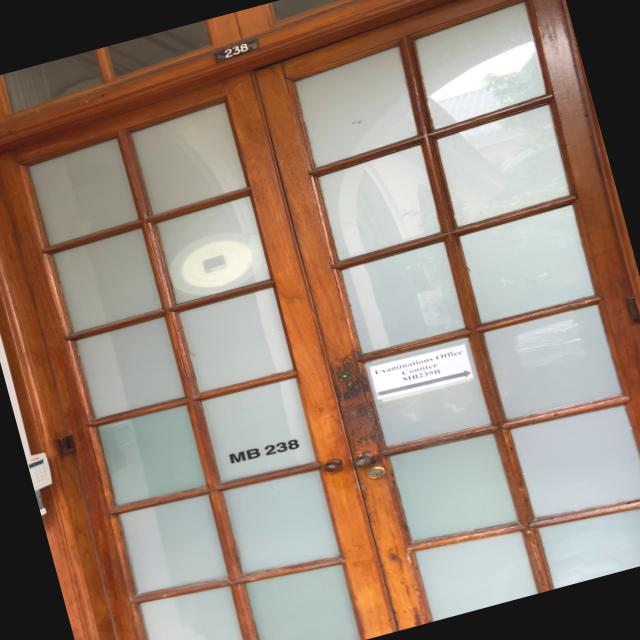room238: (211, 36, 260, 62)
